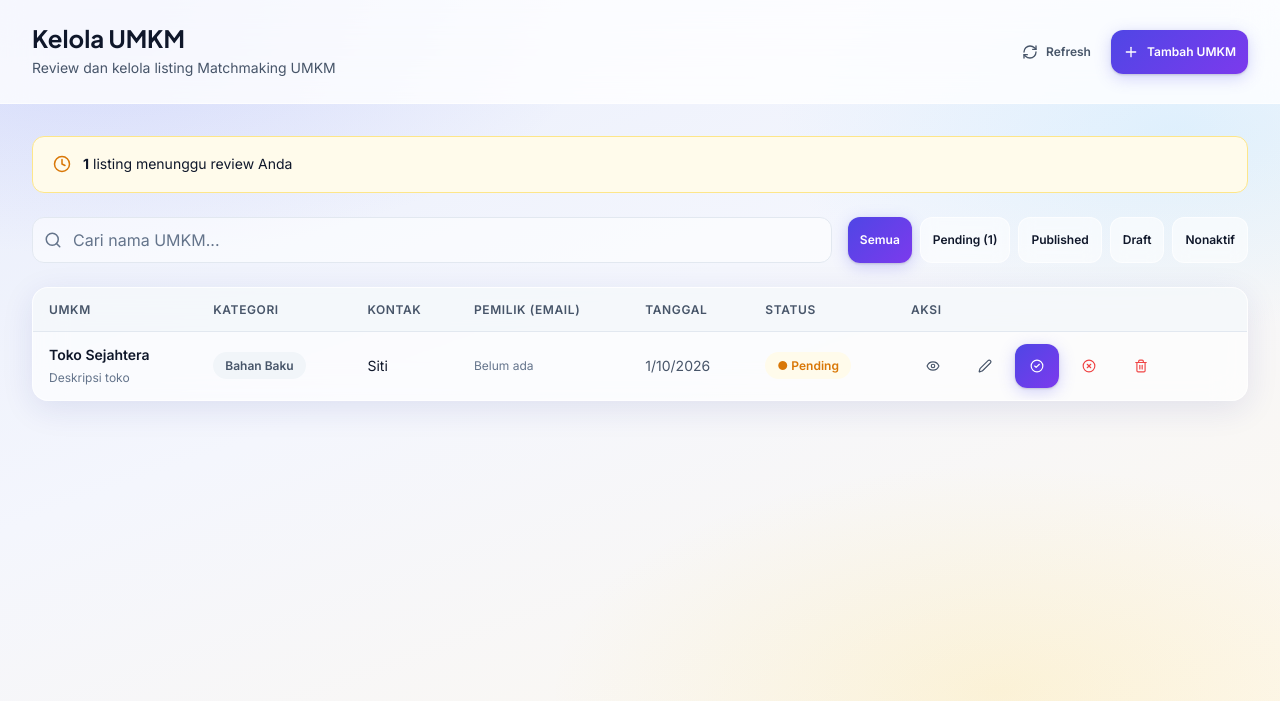
Test: Admin UMKM: mutasi dicek (tidak ada sukses palsu) › edit listing (modal) › berhasil -> modal tertutup, daftar menampilkan nama baru, toast sukses
Check: the text "Toko Sejahtera" is shown, box [49,346,150,363]
Click the button titled "Edit" at x=985, y=366, box [963,344,1007,388]
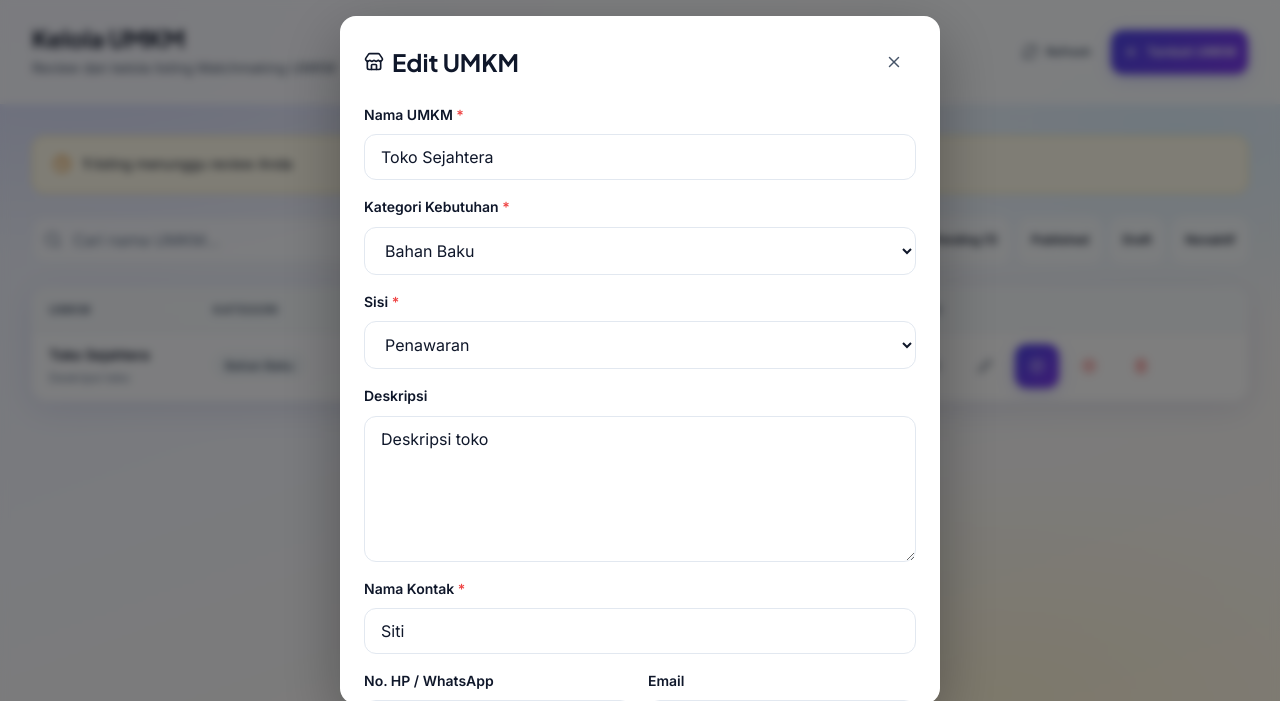
Replace the text in the field labelled "Nama UMKM" with "Toko Revisi" at x=640, y=157, box [364,134,916,180]
(page scrolled)
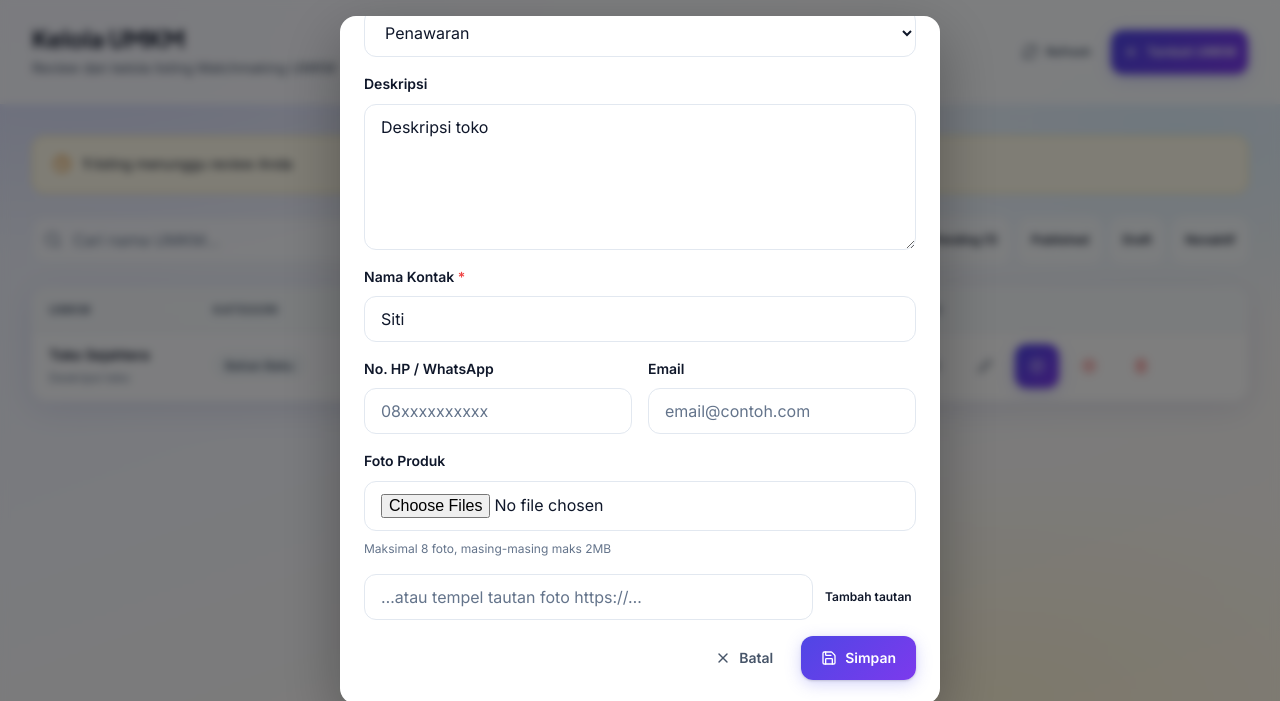
Click the button "Simpan" at x=859, y=658, box [801,636,916,680]
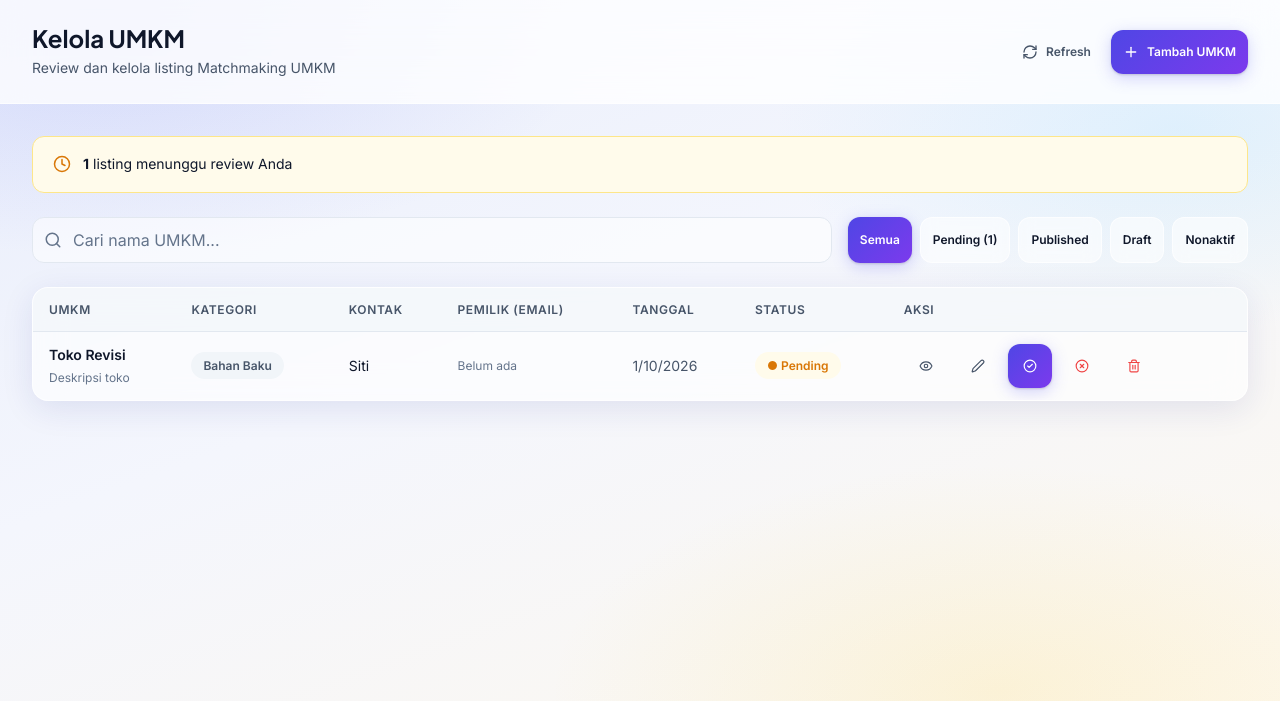
Check: the text "Toko Revisi" is shown, box [49,346,126,363]
